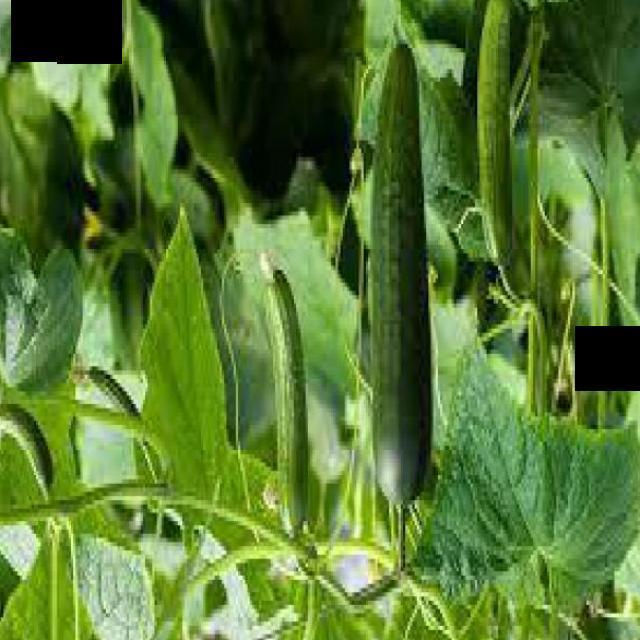cucumber: (379, 39, 428, 522), (268, 270, 310, 542), (480, 0, 514, 271), (0, 391, 57, 509)
